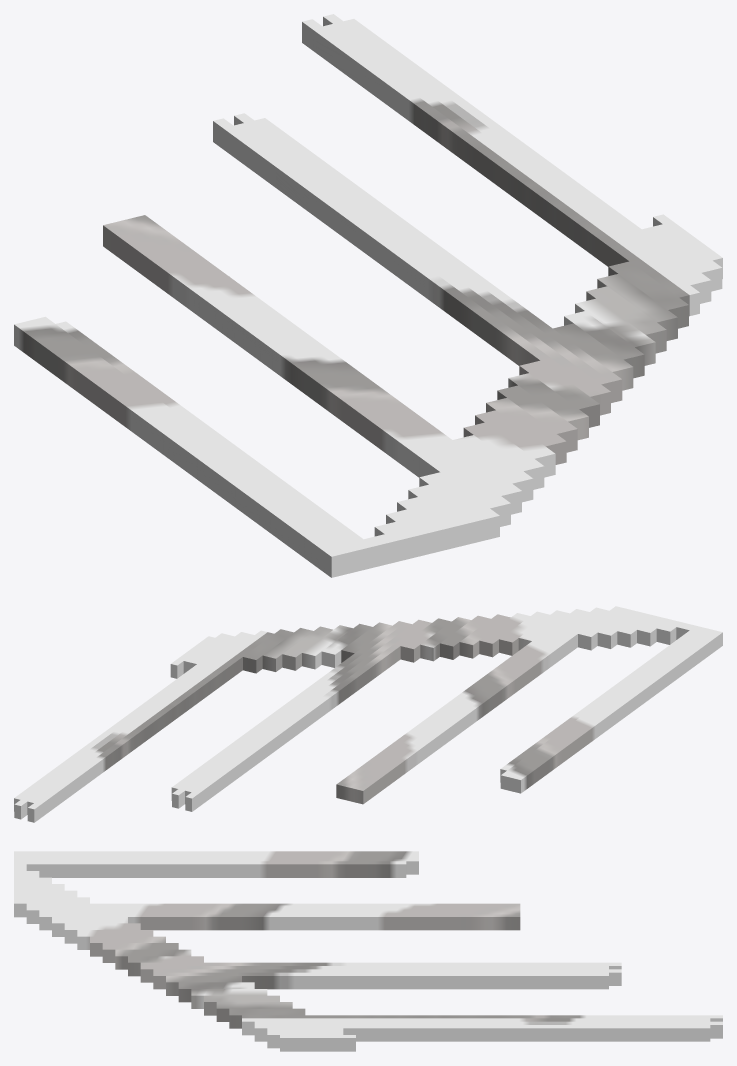
File: rail.obj
The picture shows the model from 3 angles, top to bottom: view 1: azimuth 30°, elevation 25°; view 2: azimuth 150°, elevation 25°; view 3: azimuth 270°, elevation 25°; orthographic projection. The views are drawn at different scales.
Bounding box in the file's own units: 0.8906 × 0.03 × 1.43.
